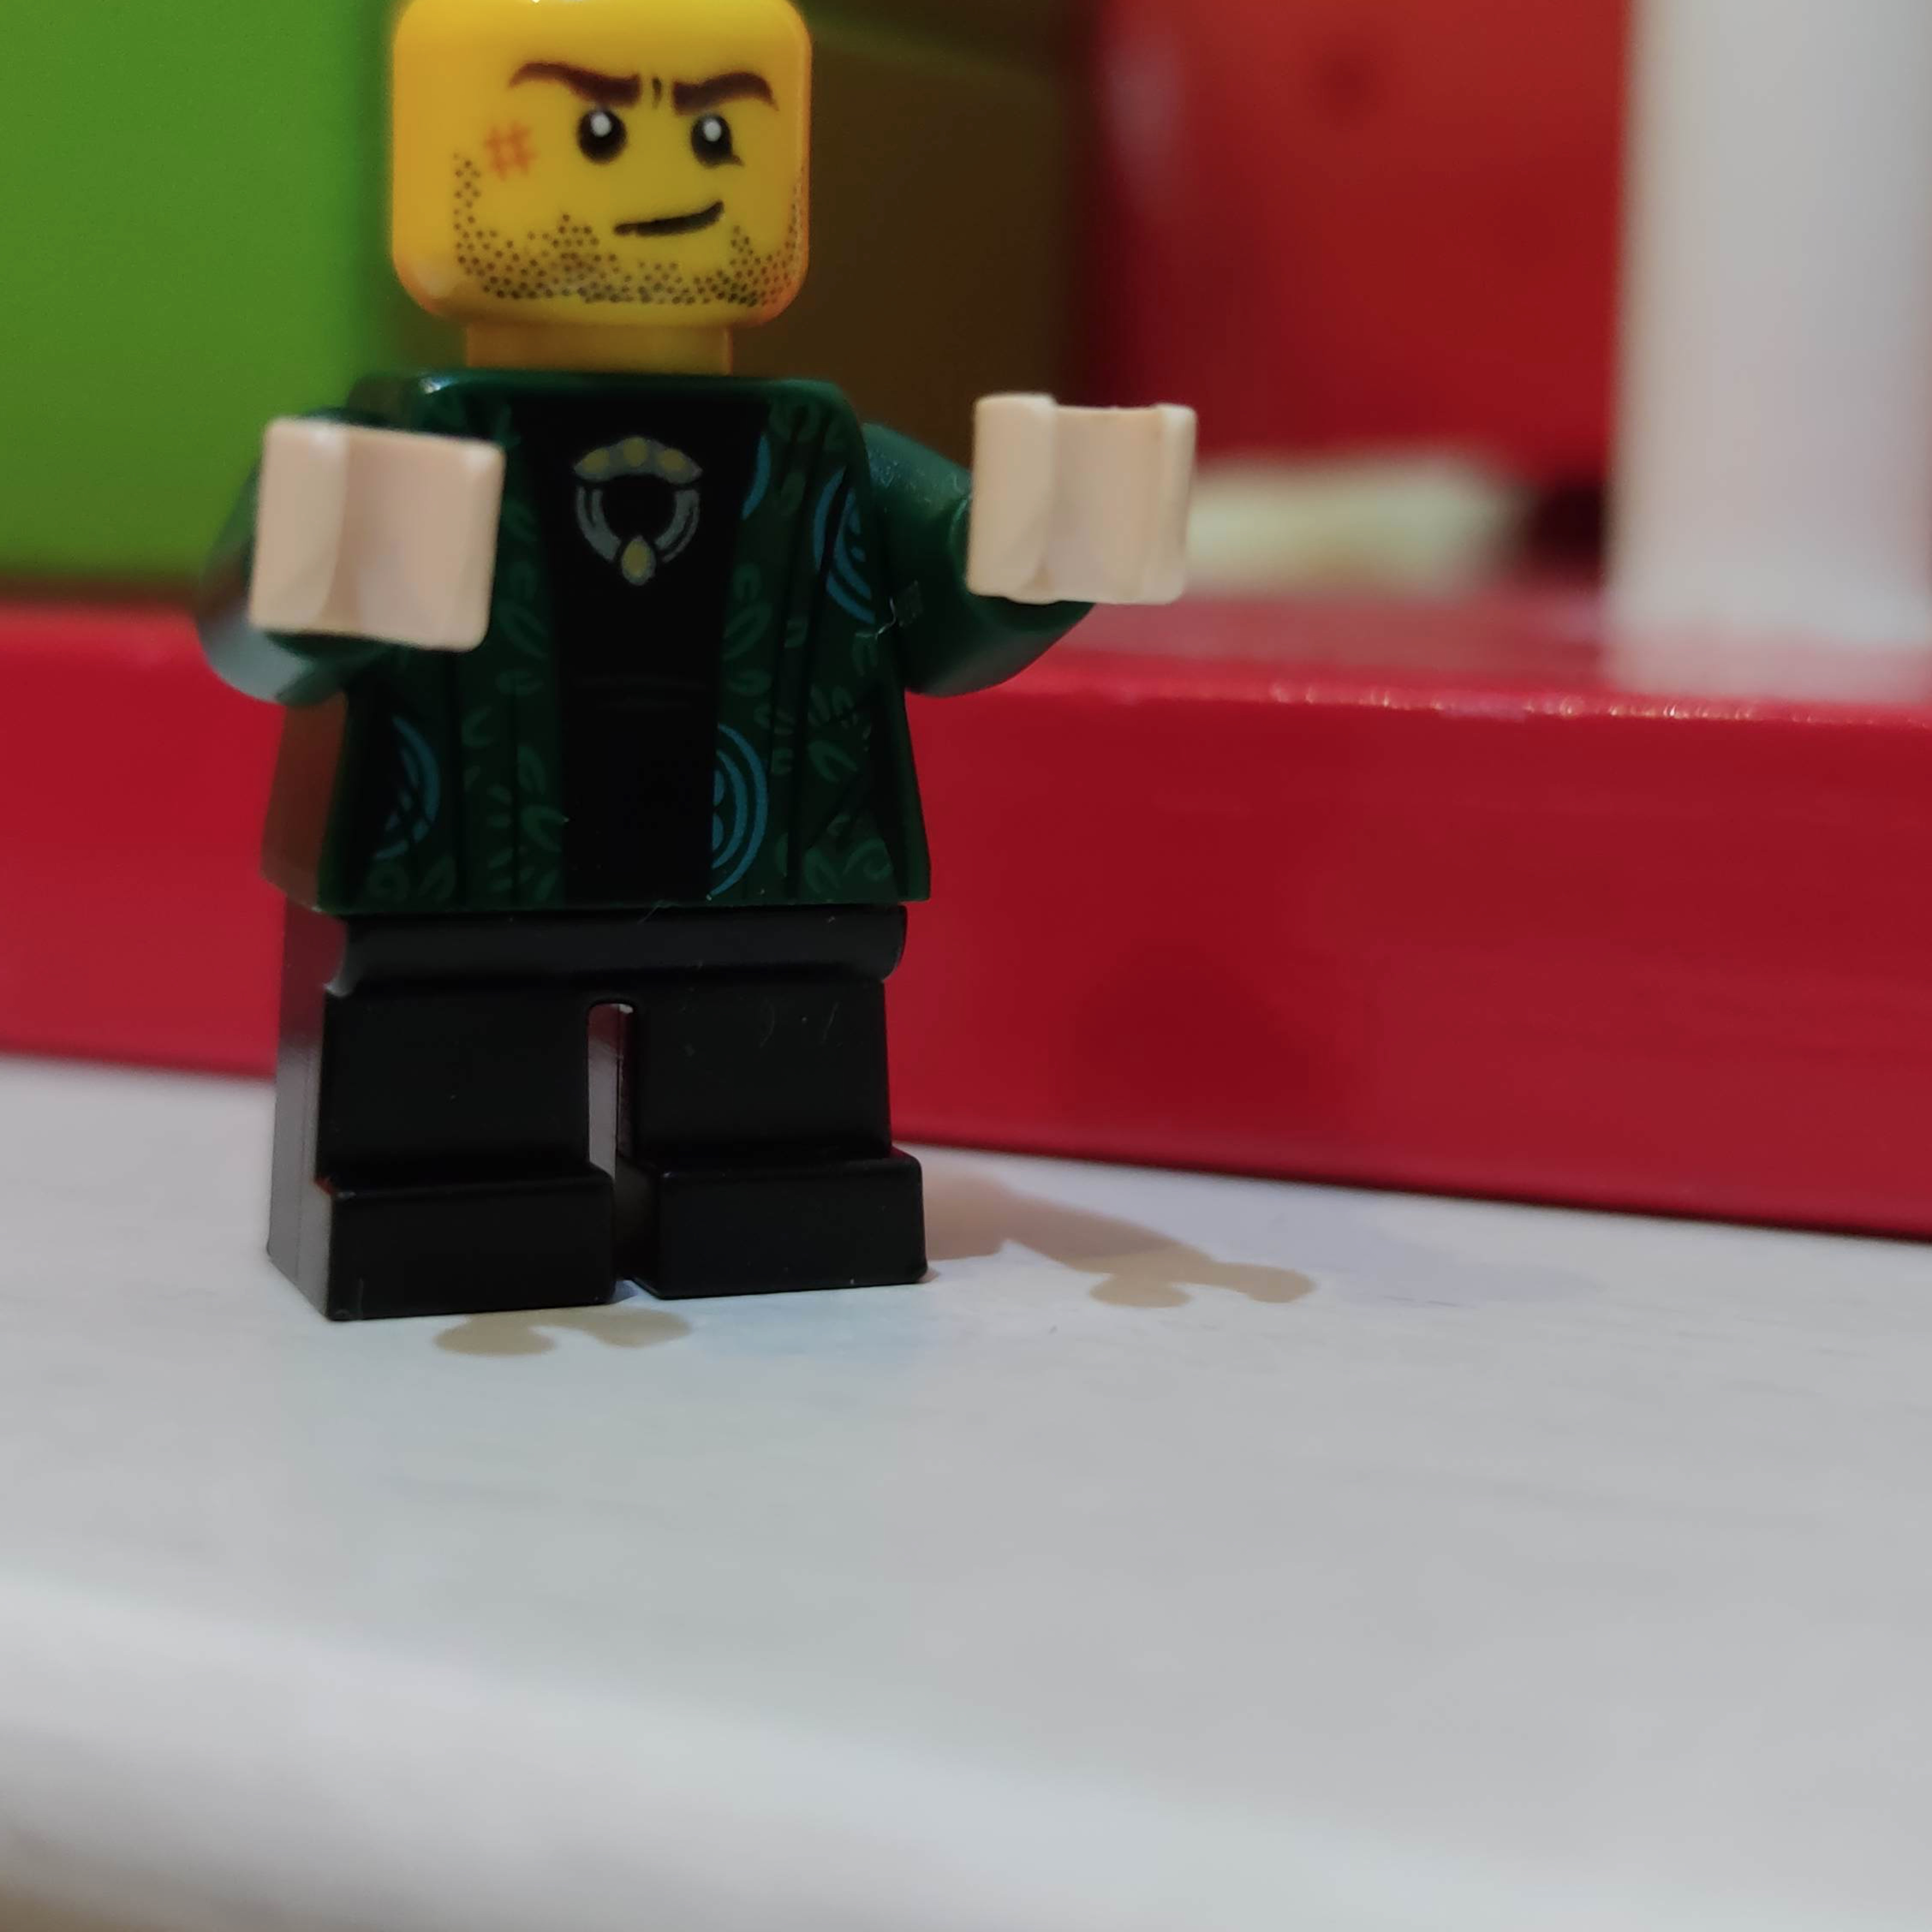lego: (198, 0, 1203, 1327)
